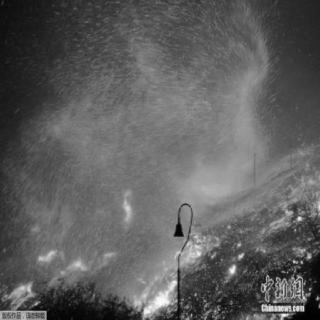Fire: (154, 155, 317, 319), (3, 242, 117, 318), (114, 181, 137, 231)
